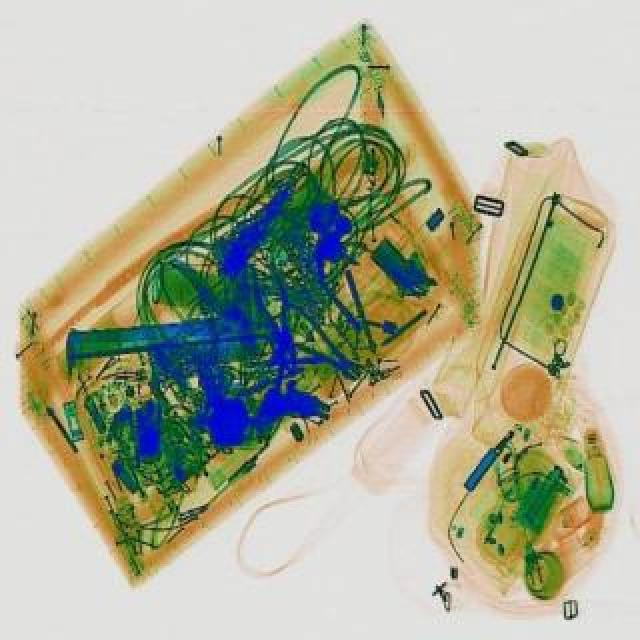wrench: (262, 294, 374, 386), (242, 258, 302, 364)
